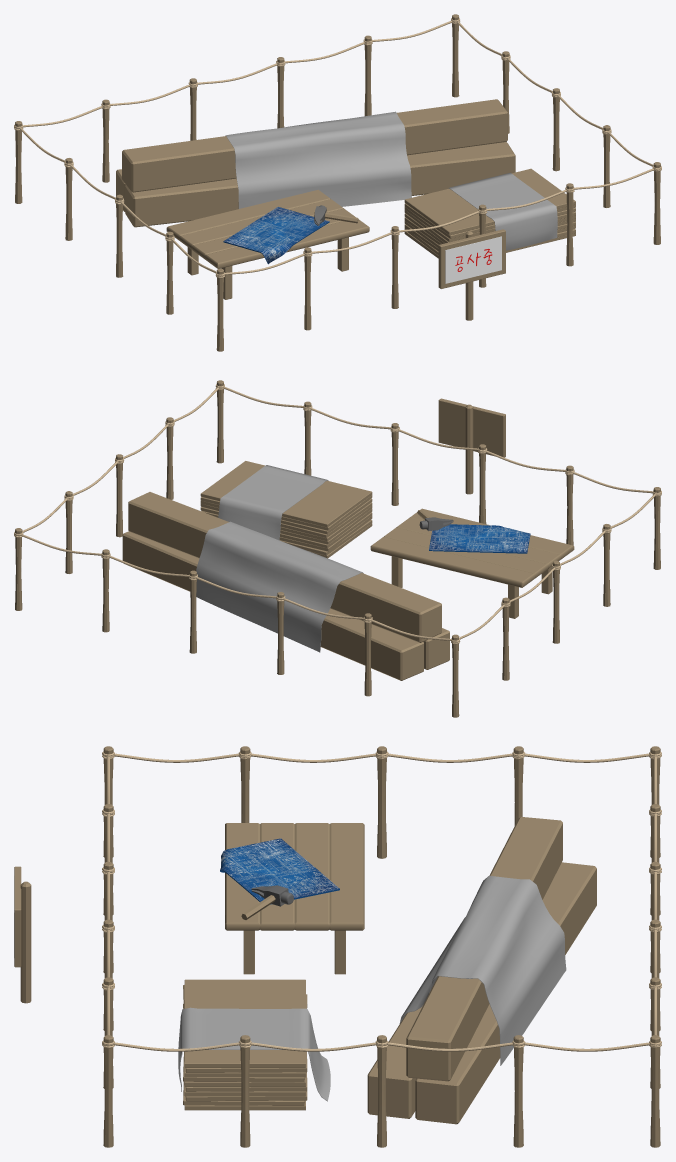
Rendered from construction site.fbx.
3 renders of one model, top to bottom at view 1: azimuth 30°, elevation 25°; view 2: azimuth 150°, elevation 25°; view 3: azimuth 270°, elevation 25°, orthographic. The views are drawn at different scales.
Visible parts, largest first — view 1: ConstructionSite; view 2: ConstructionSite; view 3: ConstructionSite.
Boxes of the visible parts, x1,y1,x2,y2 form: ConstructionSite: (14, 14, 661, 351); ConstructionSite: (14, 380, 661, 717); ConstructionSite: (14, 746, 661, 1147).
Bounding box in the file's own units: 306 × 59.45 × 284.
